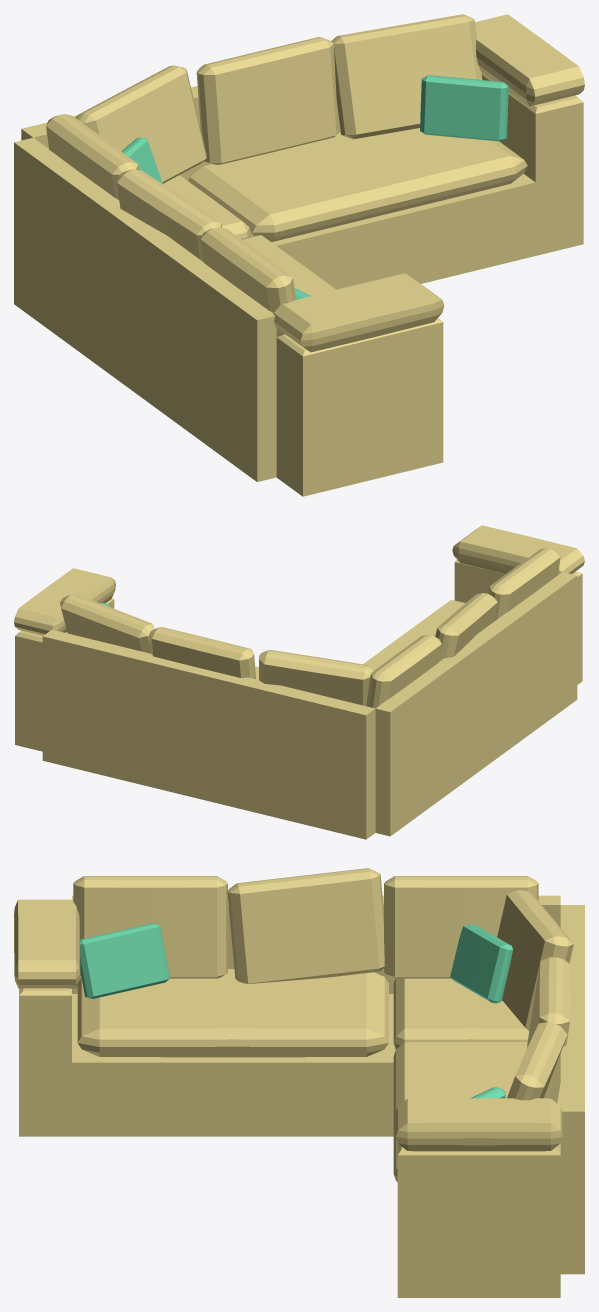
Rendered from bank c.fbx.
3 renders of one model, top to bottom at view 1: azimuth 30°, elevation 25°; view 2: azimuth 150°, elevation 25°; view 3: azimuth 270°, elevation 25°, orthographic. The views are drawn at different scales.
Parts seen in each view (by area): view 1: Cube.001, Cube.003, Cube.013, Cube.012, Cube.008, Cube.014, Cube.002, Cube.015, Cube.010, Cube.009, Cube.011, Cube.006 (+2 smaller); view 2: Cube.001, Cube.014, Cube.008, Cube.013, Cube.002, Cube.012, Cube.011, Cube.009, Cube.010, Cube.006; view 3: Cube.001, Cube.006, Cube.010, Cube.009, Cube.011, Cube.002, Cube.003, Cube.005, Cube.008, Cube.014, Cube.017, Cube.016 (+2 smaller).
Boxes of the visible parts, <box> form: Cube.001: <box>14,72,583,496</box>; Cube.003: <box>188,128,527,241</box>; Cube.013: <box>196,37,339,164</box>; Cube.012: <box>331,14,482,139</box>; Cube.008: <box>273,273,444,352</box>; Cube.014: <box>75,65,206,183</box>; Cube.002: <box>475,14,584,106</box>; Cube.015: <box>420,75,508,141</box>; Cube.010: <box>117,169,221,261</box>; Cube.009: <box>200,227,295,336</box>; Cube.011: <box>46,114,139,199</box>; Cube.006: <box>241,235,335,295</box>; Cube.001: <box>15,560,582,839</box>; Cube.014: <box>259,650,373,705</box>; Cube.008: <box>452,525,584,574</box>; Cube.013: <box>149,627,255,679</box>; Cube.002: <box>14,568,115,635</box>; Cube.012: <box>60,594,154,653</box>; Cube.011: <box>366,634,441,708</box>; Cube.009: <box>488,548,560,621</box>; Cube.010: <box>435,593,497,661</box>; Cube.006: <box>363,600,465,670</box>; Cube.001: <box>19,895,584,1297</box>; Cube.006: <box>77,969,388,1057</box>; Cube.010: <box>227,868,384,983</box>; Cube.009: <box>73,876,227,978</box>; Cube.011: <box>384,876,538,979</box>; Cube.002: <box>395,1098,562,1151</box>; Cube.003: <box>393,1042,527,1181</box>; Cube.005: <box>393,978,529,1049</box>; Cube.008: <box>14,899,80,988</box>; Cube.014: <box>497,890,573,1030</box>; Cube.017: <box>80,923,169,998</box>; Cube.016: <box>450,924,512,1003</box>.
Size of the model in its own units: 351 by 136 by 350.
